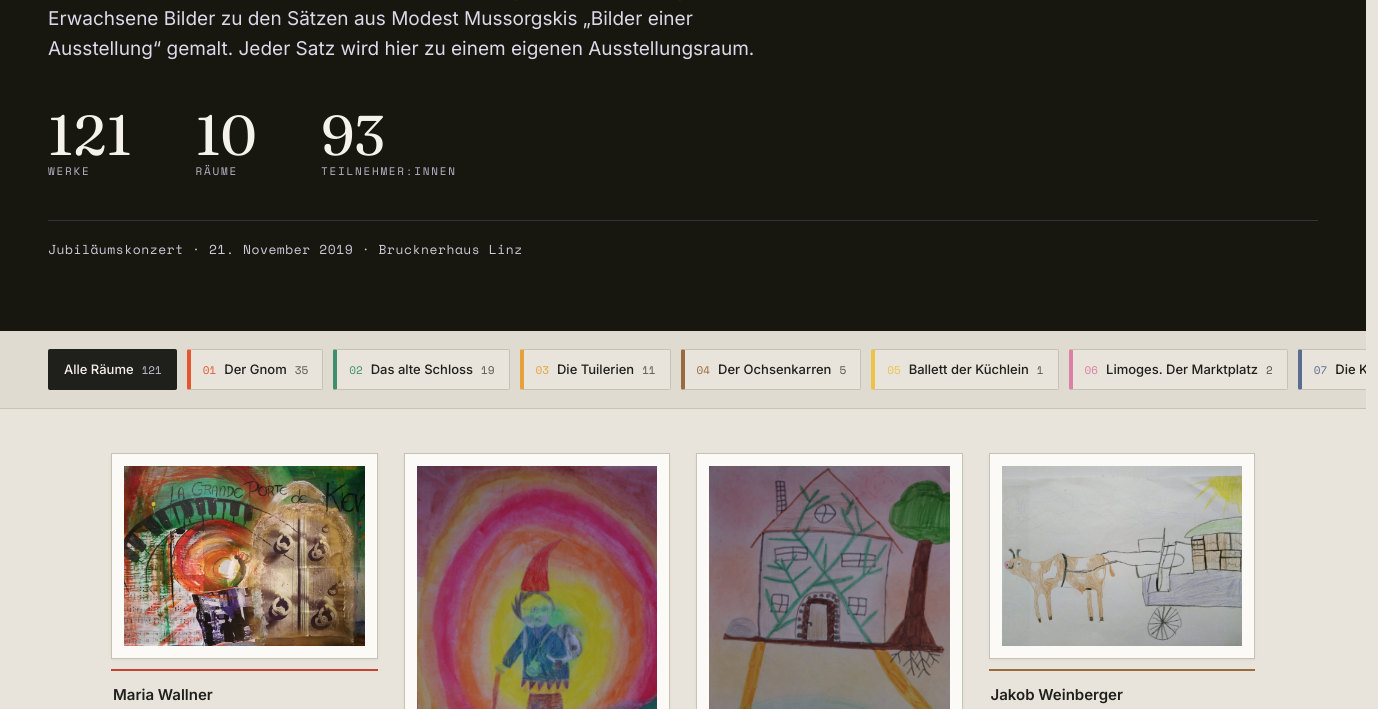
Scenario: Klick: Raum filtern › Klick auf einen Raum reduziert die Galerie auf dessen Werke
(page scrolled)
Click the link with test id "motif-filter" showing "01 Der Gnom 35" at {"x": 255, "y": 370}, box [187, 350, 323, 390]
(page scrolled)
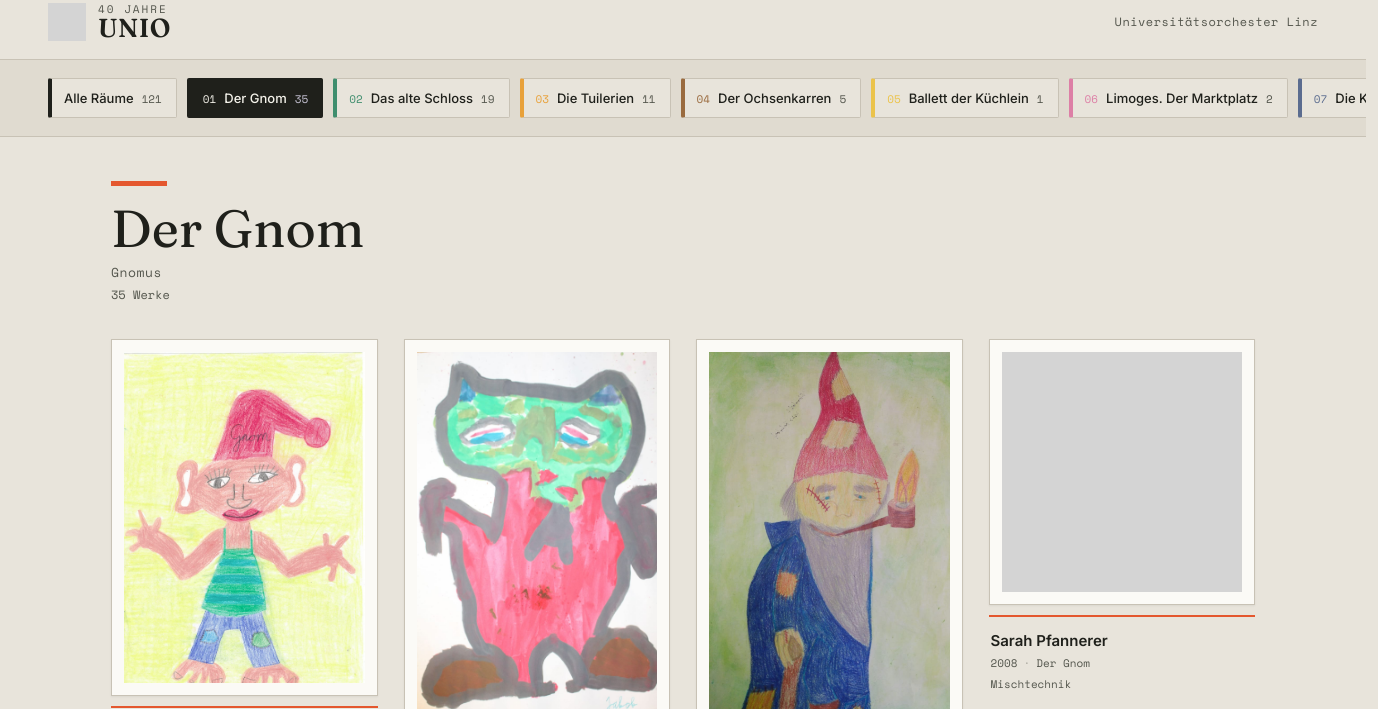
expect the number of links with test id "work-card" is 35: met
